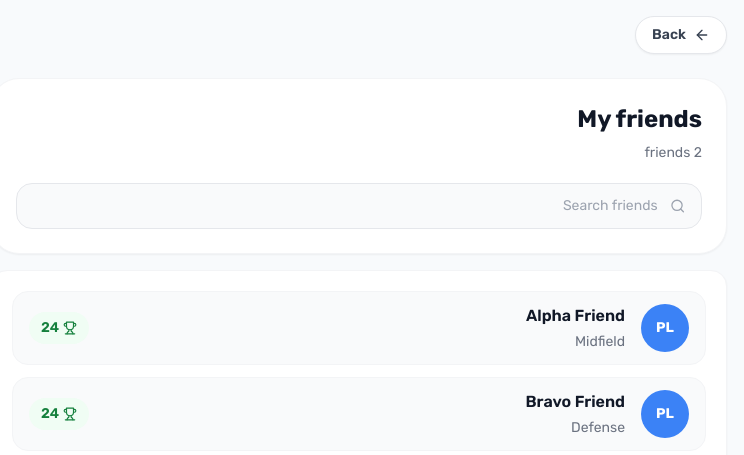
Scenario: ProfileFriendsPage › shows the full friends list and filters it by search
Expected: the heading "My friends" is shown, [577,103,702,135]
Expected: the text "Alpha Friend" is shown, [526,306,625,325]
Type "bravo" into the field with placeholder "Search friends".
click(345, 206); type("bravo")  # box [33,196,658,216]
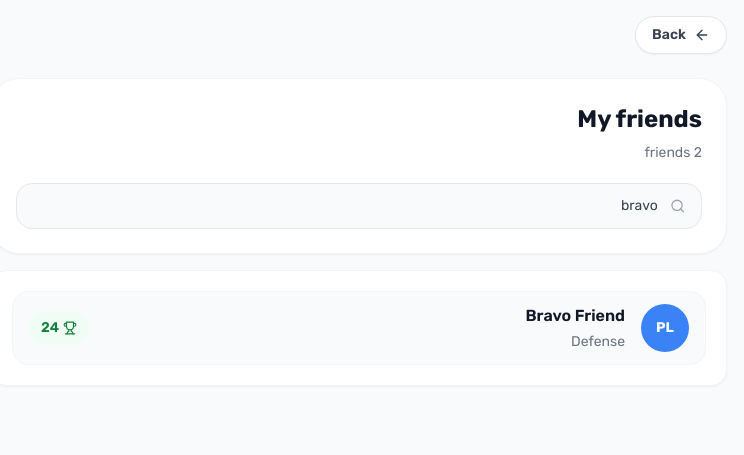
Expected: the text "Bravo Friend" is shown, [525,306,625,325]
Result: the button "Alpha Friend" is gone
